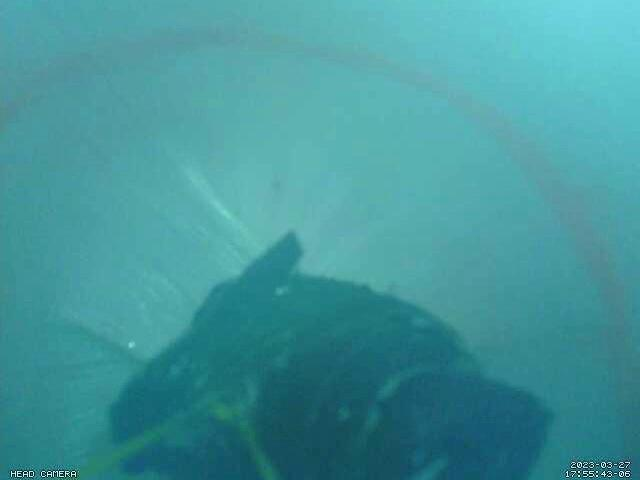head: (1, 28, 640, 480)
